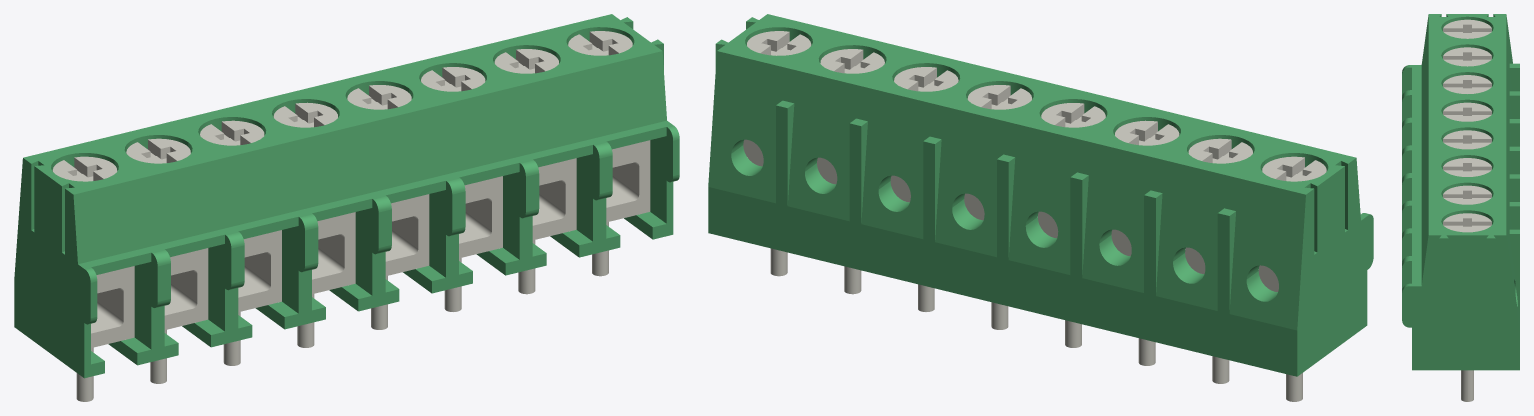
The model's file is kc-terminalblock_phoenix_pt-1_5-8-5.0-h_1x08_p5.00mm_horizontal.glb.
The picture shows the model from 3 angles, left to right: view 1: azimuth 30°, elevation 25°; view 2: azimuth 150°, elevation 25°; view 3: azimuth 270°, elevation 25°; orthographic projection. The views are drawn at different scales.
Parts seen in each view (by area): view 1: 0.08333333333333333_0.4166666666666667_0.16666666666666666_0, 0.6666666666666666_0.6666666666666666_0.5833333333333334_0.8; view 2: 0.08333333333333333_0.4166666666666667_0.16666666666666666_0, 0.6666666666666666_0.6666666666666666_0.5833333333333334_0.8; view 3: 0.08333333333333333_0.4166666666666667_0.16666666666666666_0, 0.6666666666666666_0.6666666666666666_0.5833333333333334_0.8.
Boxes of the visible parts, x1,y1,x2,y2 form: 0.08333333333333333_0.4166666666666667_0.16666666666666666_0: [14, 14, 679, 378]; 0.6666666666666666_0.6666666666666666_0.5833333333333334_0.8: [52, 31, 650, 401]; 0.08333333333333333_0.4166666666666667_0.16666666666666666_0: [708, 14, 1373, 376]; 0.6666666666666666_0.6666666666666666_0.5833333333333334_0.8: [743, 31, 1326, 401]; 0.08333333333333333_0.4166666666666667_0.16666666666666666_0: [1402, 14, 1519, 370]; 0.6666666666666666_0.6666666666666666_0.5833333333333334_0.8: [1443, 19, 1491, 401].
Size of the model in its own units: 4.06 by 1.5 by 0.8999.
